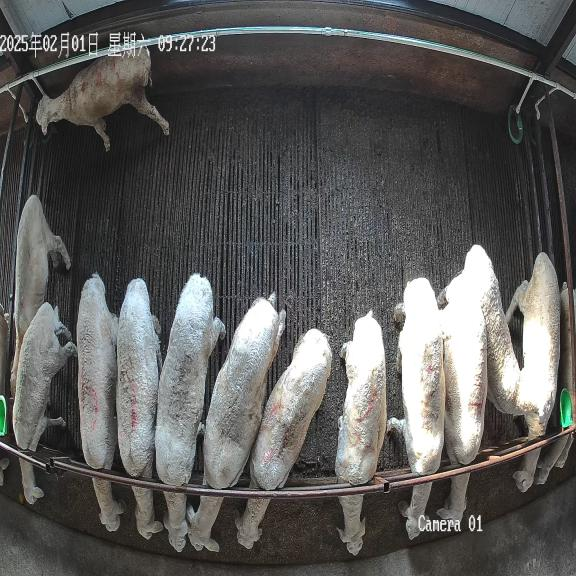drinking: (36, 48, 169, 152)
eating: (187, 293, 285, 551), (235, 329, 332, 549), (155, 274, 225, 552), (387, 277, 446, 540), (330, 310, 387, 555), (505, 252, 560, 492), (437, 265, 487, 522), (76, 273, 125, 531), (116, 278, 163, 539)
stand: (463, 245, 549, 418), (13, 302, 77, 504), (10, 195, 70, 395)
